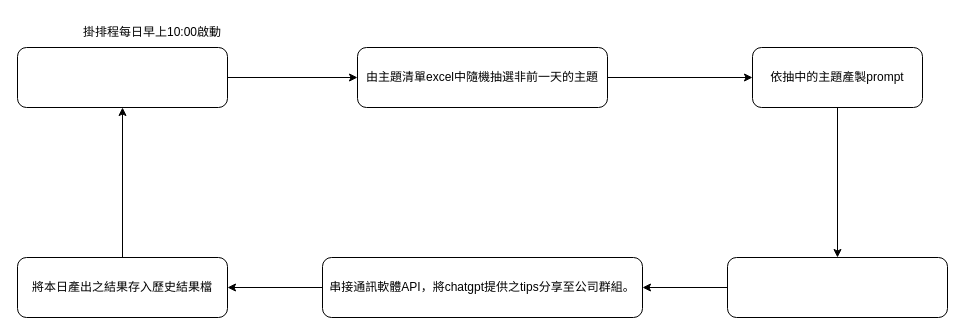
This 965x335 diagram has some shape labels left out. Here are the shapes that lost their labels. From the top down, the box of each, then its label:
(16, 46, 228, 108): 由歷史結果檔取出前一天抽中的主題 (避免與前一天的主題重複)
(726, 256, 948, 318): 透過爬蟲將prompt丟入企業版chatgpt
